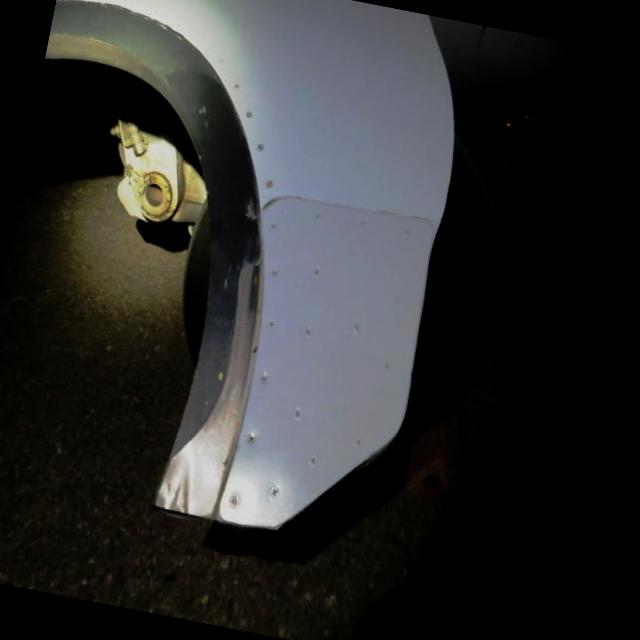dent: (143, 438, 227, 524)
